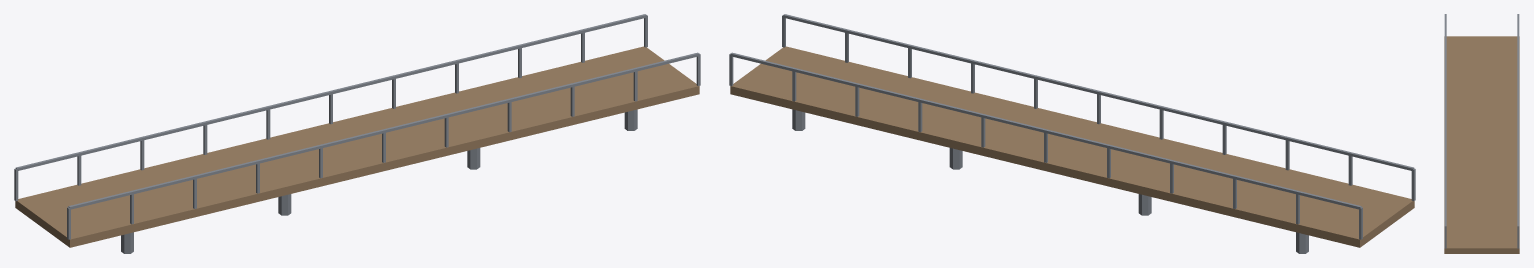
The model's file is shanghai-pasarela.glb.
The picture shows the model from 3 angles, left to right: view 1: azimuth 30°, elevation 25°; view 2: azimuth 150°, elevation 25°; view 3: azimuth 270°, elevation 25°; orthographic projection. The views are drawn at different scales.
Visible parts, largest first — view 1: shanghai-pasarela; view 2: shanghai-pasarela; view 3: shanghai-pasarela.
Part boxes in pixels (x1=…): shanghai-pasarela: x1=14, y1=14, x2=700, y2=253; shanghai-pasarela: x1=729, y1=14, x2=1415, y2=253; shanghai-pasarela: x1=1444, y1=14, x2=1519, y2=253.
Bounding box in the file's own units: 20.08 × 1.93 × 3.
